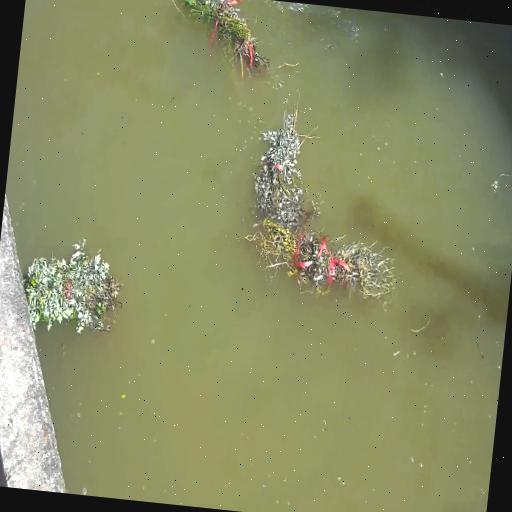twig: (230, 198, 402, 300), (21, 234, 126, 340), (248, 97, 322, 233), (179, 0, 275, 80)
